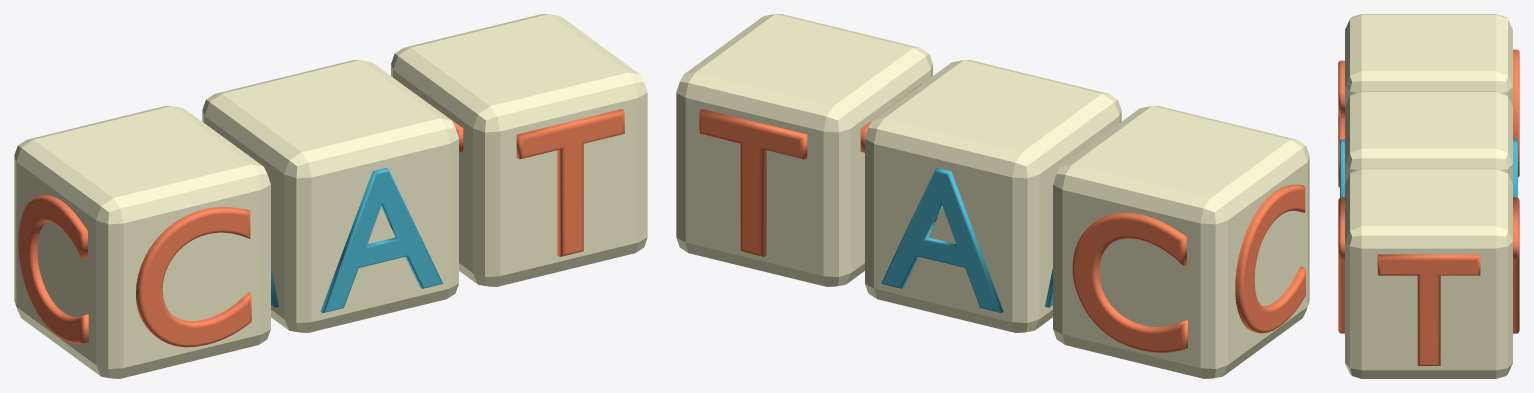
Rendered from cat.fbx.
3 views of the same model, side by side, from view 1: azimuth 30°, elevation 25°; view 2: azimuth 150°, elevation 25°; view 3: azimuth 270°, elevation 25° (orthographic). The views are drawn at different scales.
Parts seen in each view (by area): view 1: Cat; view 2: Cat; view 3: Cat.
Boxes of the visible parts, x1,y1,x2,y2 form: Cat: [14, 14, 647, 378]; Cat: [676, 14, 1309, 378]; Cat: [1338, 14, 1519, 378].
Bounding box in the file's own units: 652 × 200 × 216.
